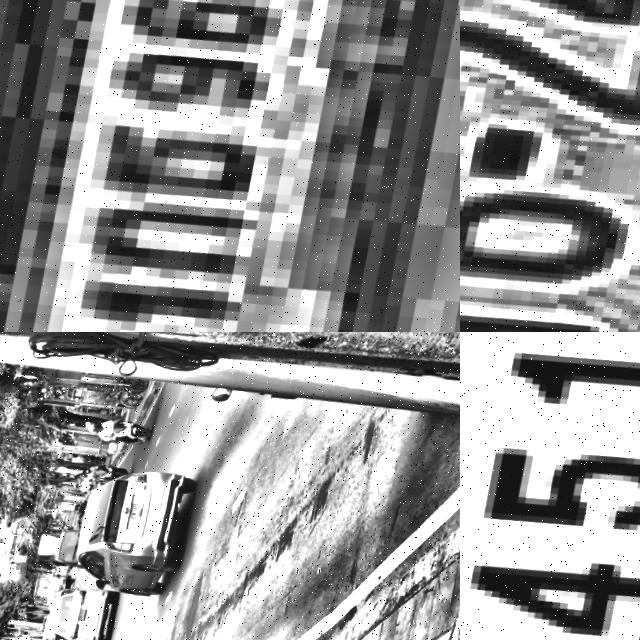license-plate: (0, 0, 460, 332), (460, 0, 640, 332), (460, 332, 640, 640), (132, 504, 148, 526), (83, 610, 92, 624)
